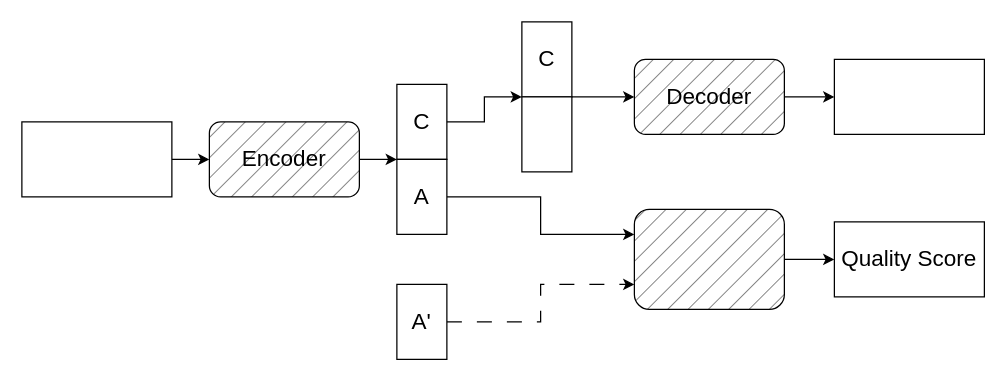
The diagram is 1006 pixels wide and 381 high, and some of its shapes have lost their labels. Each missing label, with the centre of its shape:
"A des" belongs at [546,134].
"Edited Image" belongs at [908,96].
"Input Image" belongs at [96,159].
"Regressor" belongs at [708,258].
